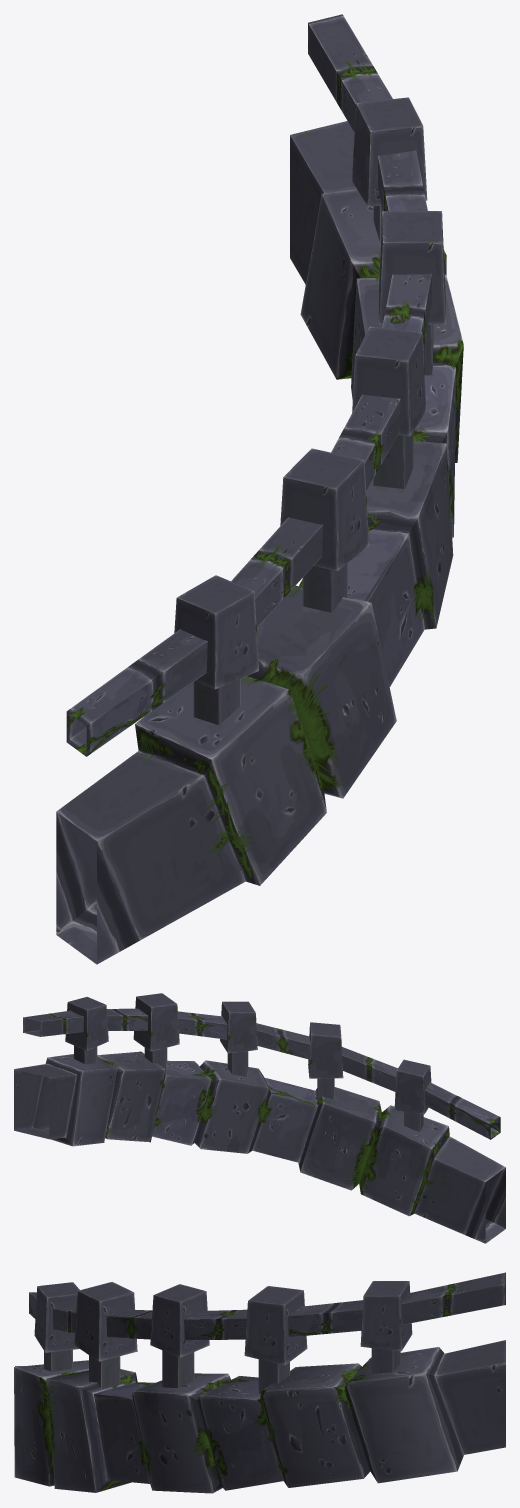
File: MOD_Stairs_01_Railing_SW.fbx
3 views of the same model, one above another, from view 1: azimuth 30°, elevation 25°; view 2: azimuth 150°, elevation 25°; view 3: azimuth 270°, elevation 25° (orthographic). The views are drawn at different scales.
Visible parts, largest first — view 1: MOD_Stairs_01_Railing_SW; view 2: MOD_Stairs_01_Railing_SW; view 3: MOD_Stairs_01_Railing_SW.
Part boxes in pixels (bbox=[...]): MOD_Stairs_01_Railing_SW: bbox=[56, 14, 463, 964]; MOD_Stairs_01_Railing_SW: bbox=[14, 993, 505, 1243]; MOD_Stairs_01_Railing_SW: bbox=[14, 1272, 505, 1493].
Size of what is drawn, in the model's own units: 430 by 350 by 425.
